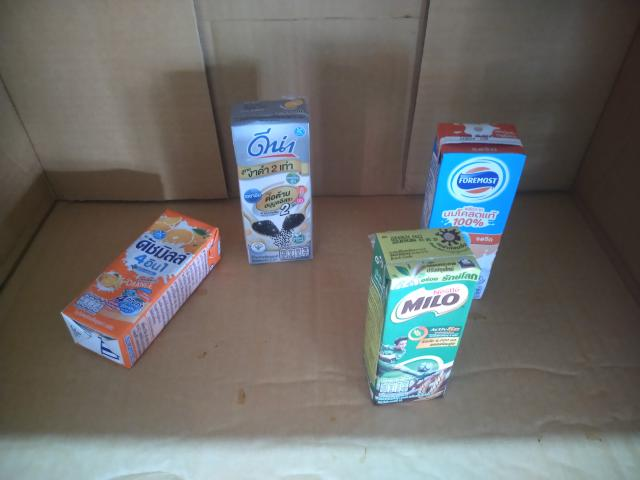drink_box: (43, 192, 239, 384), (423, 113, 546, 304), (355, 224, 477, 411), (220, 91, 322, 276)
